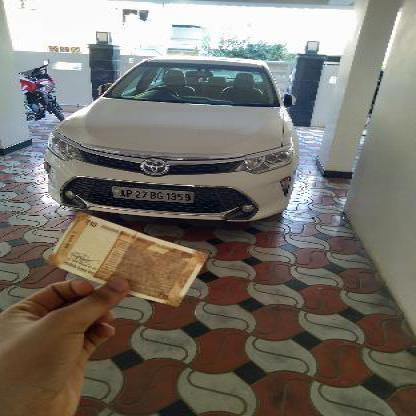New10Back: (43, 213, 197, 305)
